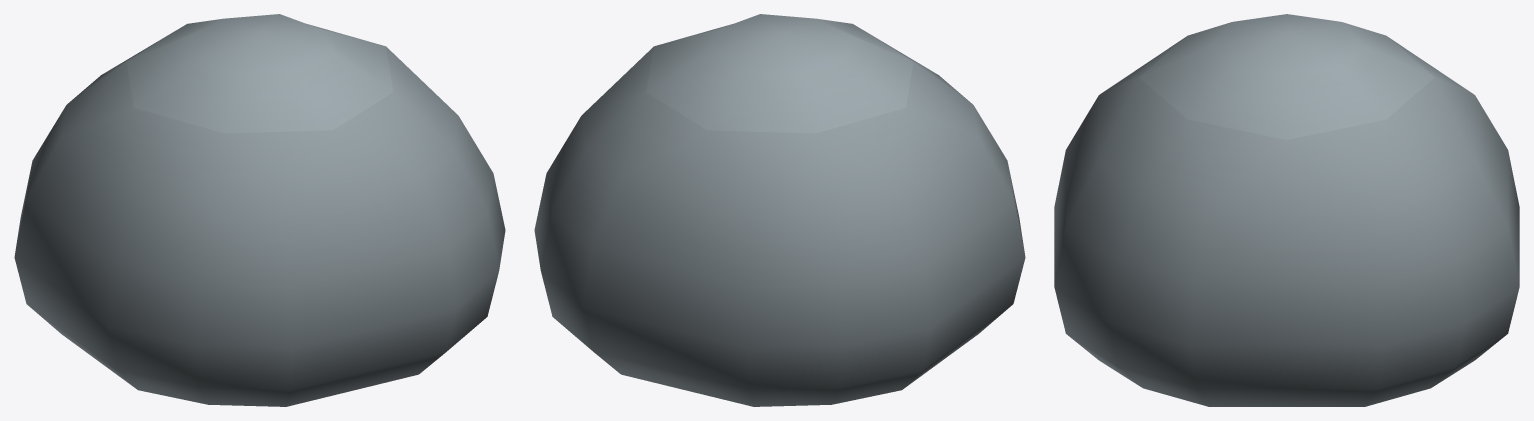
Rendered from Rock_5_D_Color1.gltf.
3 renders of one model, left to right at view 1: azimuth 30°, elevation 25°; view 2: azimuth 150°, elevation 25°; view 3: azimuth 270°, elevation 25°, orthographic.
Visible parts, largest first — view 1: Rock_5_D_Color1; view 2: Rock_5_D_Color1; view 3: Rock_5_D_Color1.
Boxes of the visible parts, x1=… form: Rock_5_D_Color1: x1=14, y1=14, x2=505, y2=406; Rock_5_D_Color1: x1=534, y1=14, x2=1025, y2=406; Rock_5_D_Color1: x1=1054, y1=14, x2=1519, y2=406.
Size of the model in its own units: 1.24 by 0.9237 by 1.24.
Materials: 1 (1 with a texture image).
